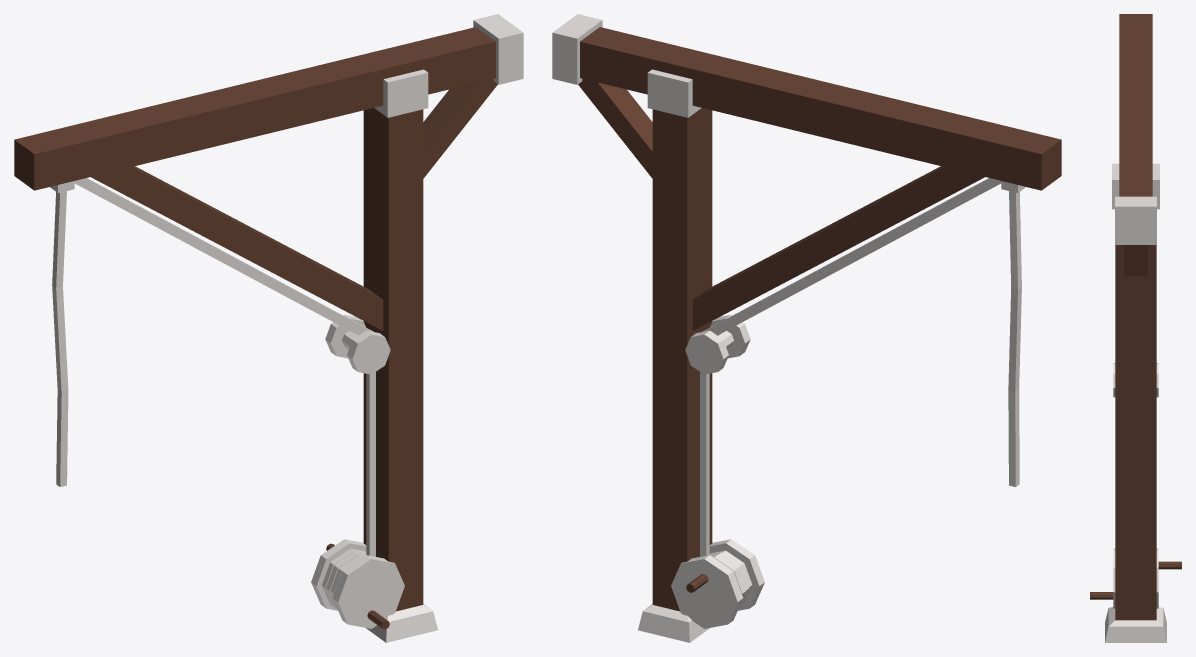
Rendered from Crane_1.fbx.
3 views of the same model, side by side, from view 1: azimuth 30°, elevation 25°; view 2: azimuth 150°, elevation 25°; view 3: azimuth 270°, elevation 25° (orthographic). The views are drawn at different scales.
Visible parts, largest first — view 1: Crane_1; view 2: Crane_1; view 3: Crane_1.
Part boxes in pixels (x1=…): Crane_1: x1=14, y1=14, x2=523, y2=642; Crane_1: x1=552, y1=14, x2=1061, y2=642; Crane_1: x1=1090, y1=14, x2=1181, y2=642.
Size of the model in its own units: 4.22 by 4.74 by 0.8316.
